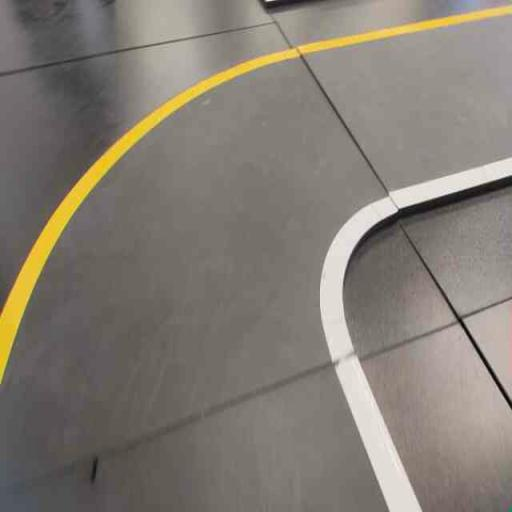right: (0, 44, 465, 488)
